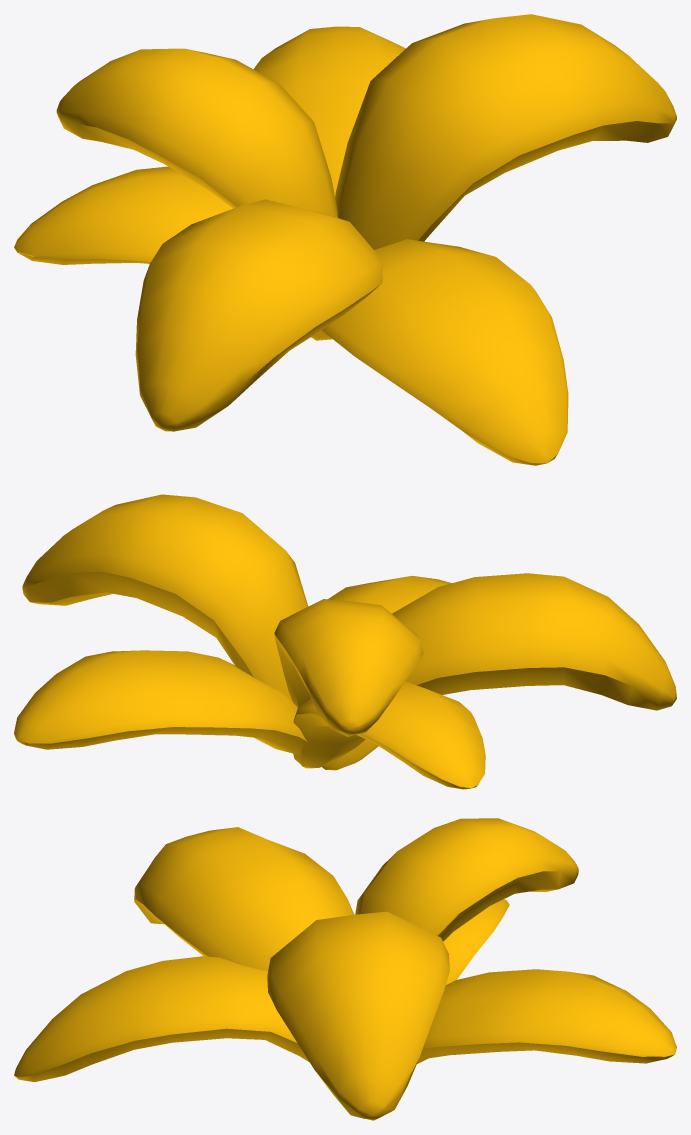
File: Plant1_Orange.fbx
The picture shows the model from 3 angles, top to bottom: view 1: azimuth 30°, elevation 25°; view 2: azimuth 150°, elevation 25°; view 3: azimuth 270°, elevation 25°; orthographic projection. The views are drawn at different scales.
Visible parts, largest first — view 1: plantA_forest 3.001; view 2: plantA_forest 3.001; view 3: plantA_forest 3.001.
Part boxes in pixels (x1,y1,x2,y2): plantA_forest 3.001: (14,14,676,465); plantA_forest 3.001: (14,494,676,789); plantA_forest 3.001: (14,818,676,1120).
Size of the model in its own units: 4.3 by 1.68 by 4.45.
